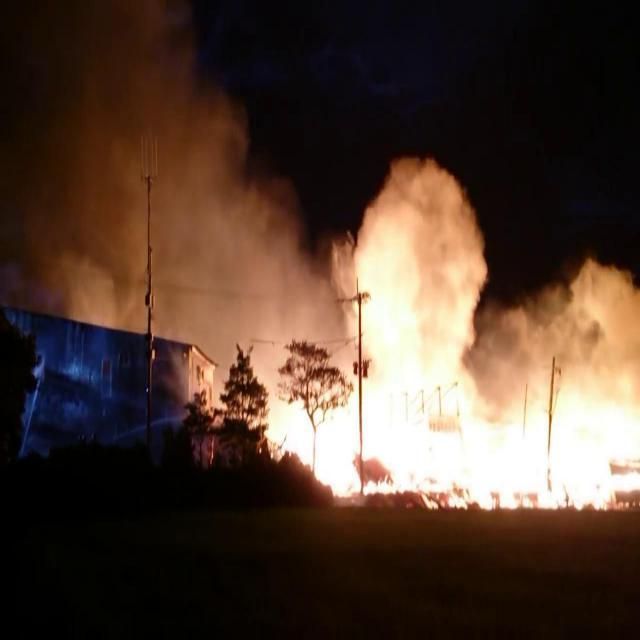Fire: (262, 375, 640, 510)
